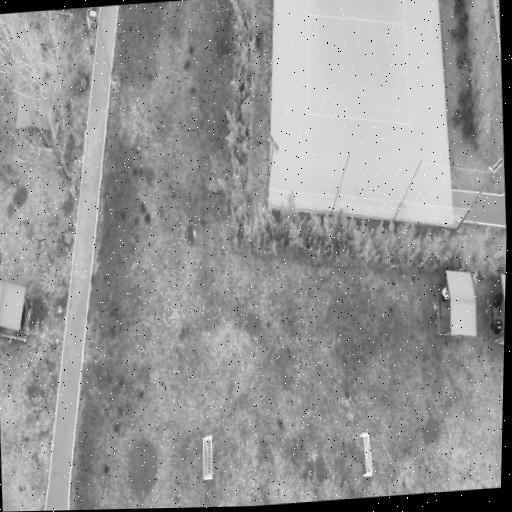person: (493, 319, 503, 335), (493, 293, 503, 308), (442, 287, 449, 301)
